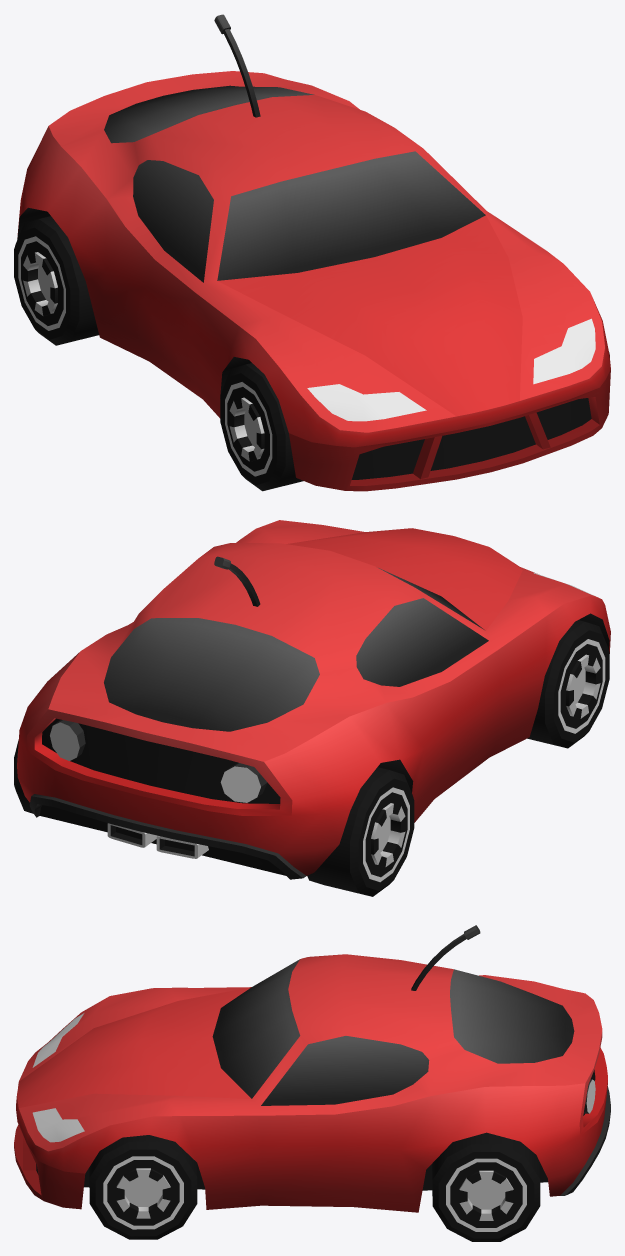
3 renders of one model, top to bottom at view 1: azimuth 30°, elevation 25°; view 2: azimuth 150°, elevation 25°; view 3: azimuth 270°, elevation 25°, orthographic. The views are drawn at different scales.
Parts seen in each view (by area): view 1: 1, galileotire, galileotire.002; view 2: 1, galileotire, galileotire.002; view 3: 1, galileotire.003, galileotire.001.
Boxes of the visible parts, left/top/right/bottom form: 1: left=17, top=14, right=610, bottom=491; galileotire: left=14, top=216, right=98, bottom=345; galileotire.002: left=220, top=363, right=303, bottom=491; 1: left=17, top=520, right=610, bottom=879; galileotire: left=307, top=767, right=414, bottom=896; galileotire.002: left=527, top=620, right=609, bottom=748; 1: left=14, top=925, right=610, bottom=1212; galileotire.003: left=432, top=1132, right=540, bottom=1241; galileotire.001: left=89, top=1135, right=197, bottom=1239.
Size of the model in its own units: 203 by 159 by 350.
